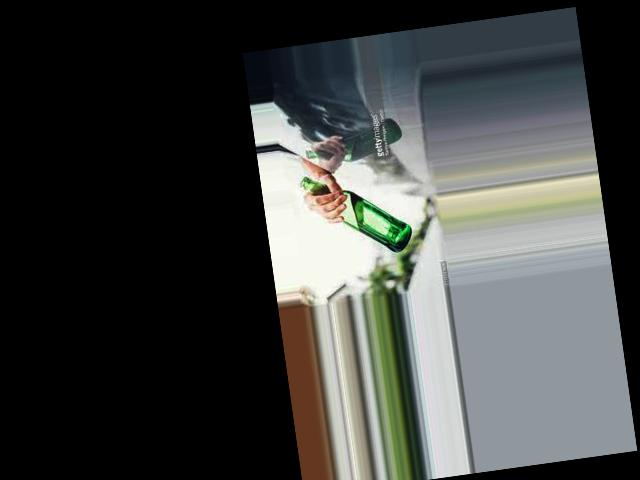beer: (301, 162, 414, 263)
